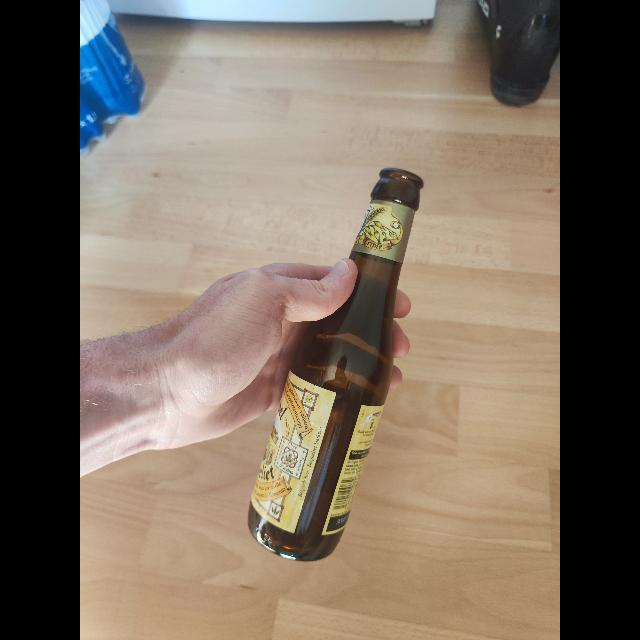Glass: (249, 162, 425, 558)
